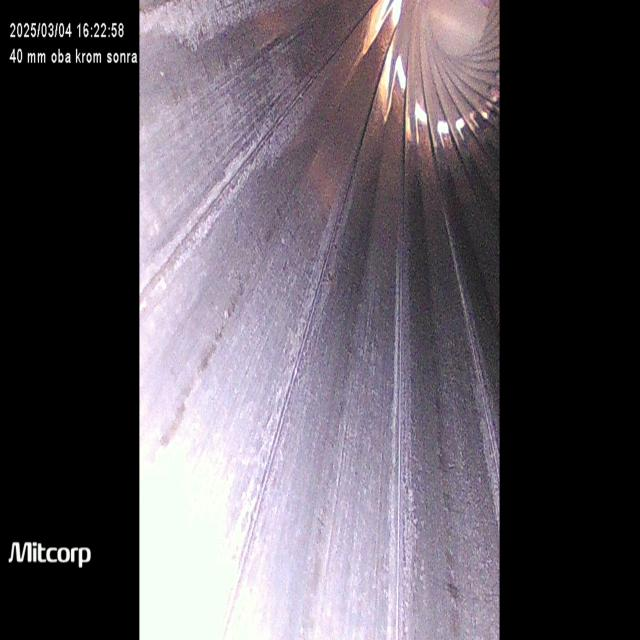hata_9.3: (135, 26, 344, 336), (139, 0, 292, 49)
